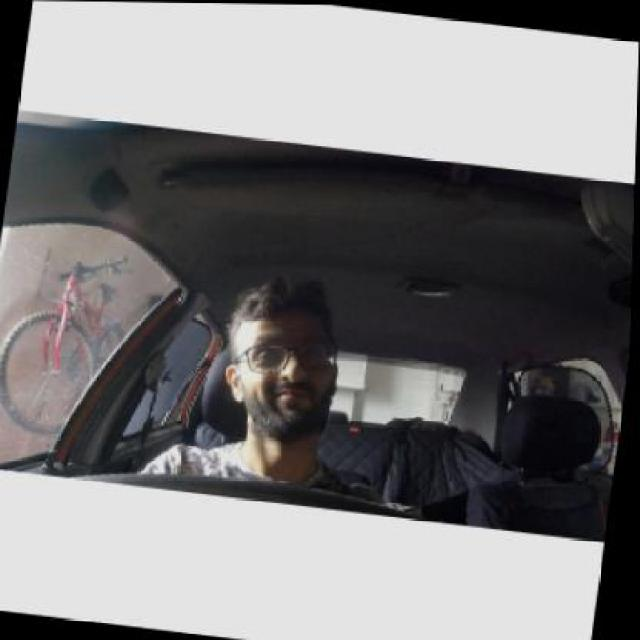person: (222, 274, 343, 461)
